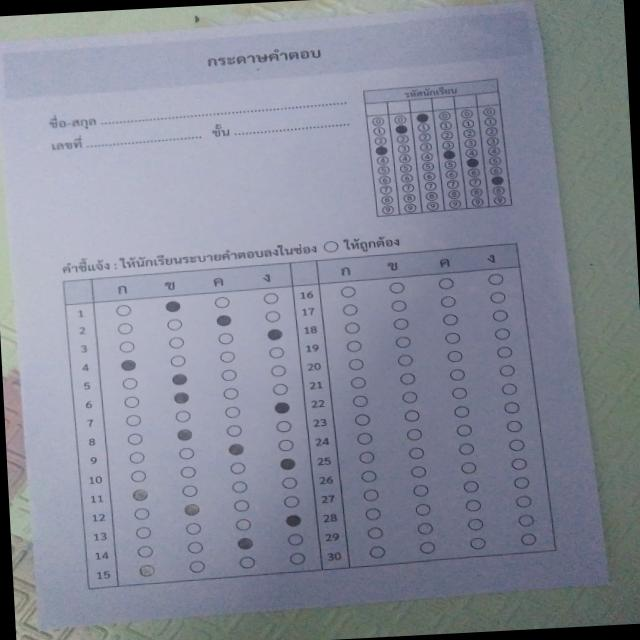ID: (51, 236, 574, 596), (356, 73, 528, 225)
